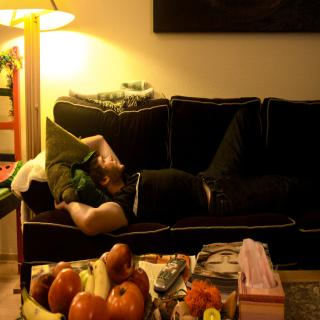tomato: (43, 266, 79, 314), (106, 280, 143, 320), (68, 292, 108, 319)
